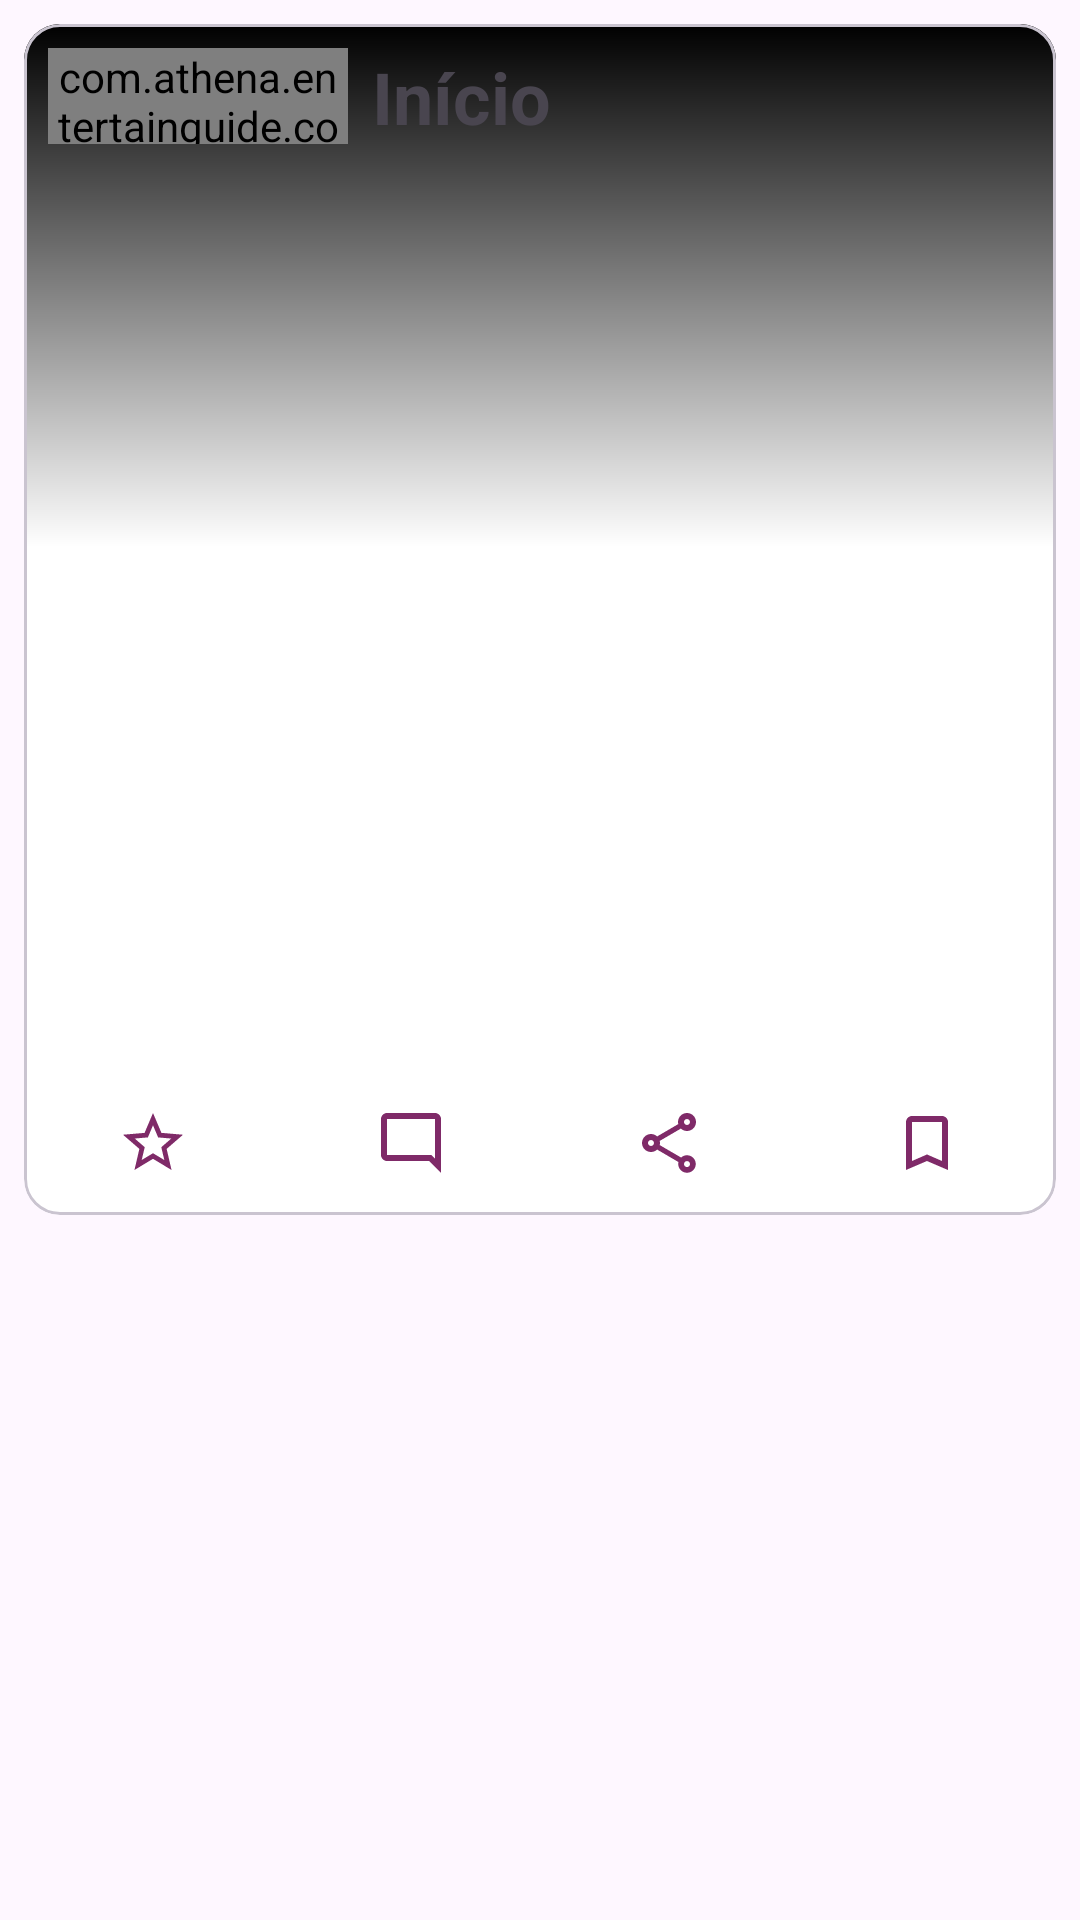

Where icons sit on this 1080 × 1920 app screen, as [x1,y1,x2,y2]:
comment: [381,1113,441,1173]
share: [642,1113,696,1173]
star: [123,1113,183,1170]
